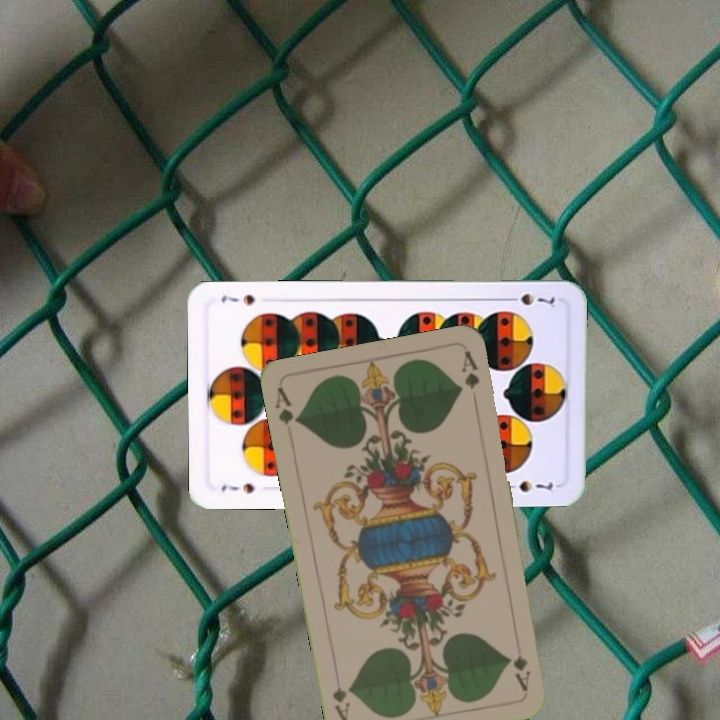GA: (271, 384, 302, 428), (509, 651, 533, 693)
S7: (502, 289, 560, 310), (217, 479, 257, 496)
